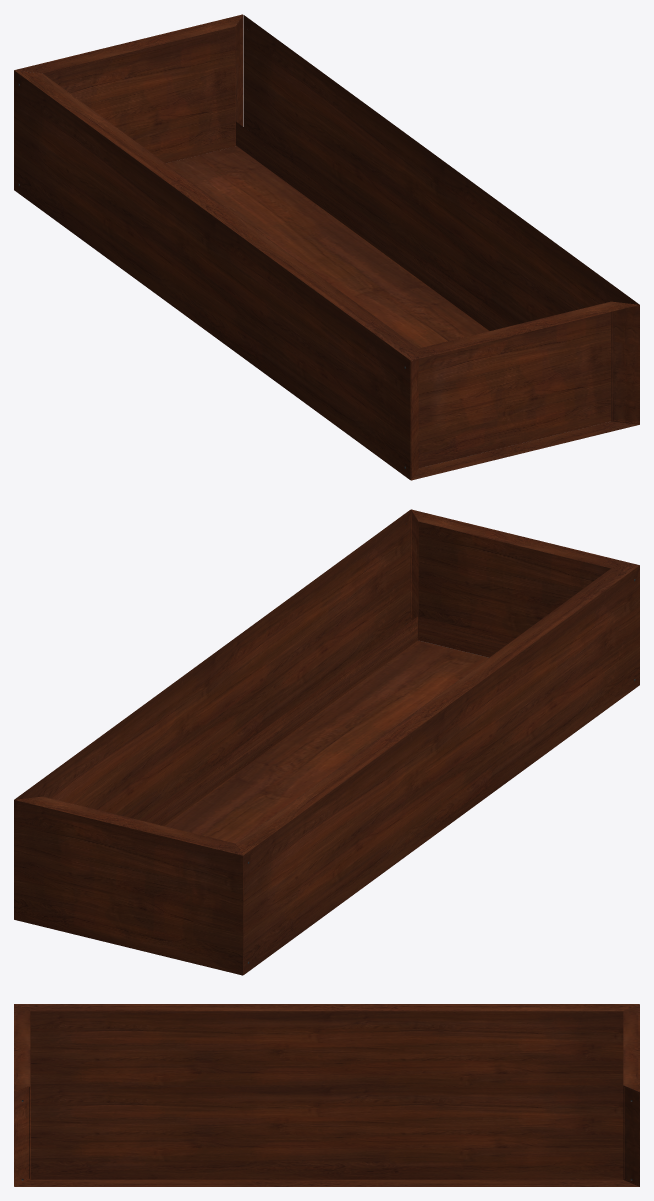
Rendered from Storage Box.fbx.
3 views of the same model, one above another, from view 1: azimuth 30°, elevation 25°; view 2: azimuth 150°, elevation 25°; view 3: azimuth 270°, elevation 25° (orthographic). The views are drawn at different scales.
Visible parts, largest first — view 1: Storage Box; view 2: Storage Box; view 3: Storage Box.
Part boxes in pixels (x1=…): Storage Box: x1=14, y1=14, x2=639, y2=480; Storage Box: x1=14, y1=509, x2=639, y2=975; Storage Box: x1=14, y1=1004, x2=639, y2=1186.
Size of the model in its own units: 10.03 by 30 by 5.
4 materials, 3 textured.
